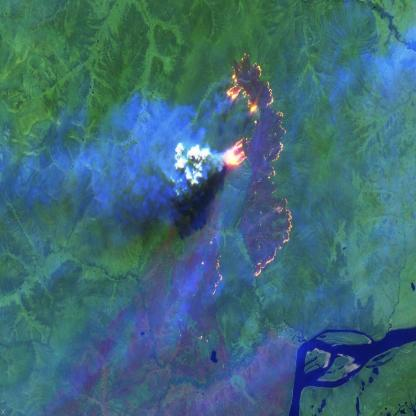fire: (205, 49, 296, 299)
